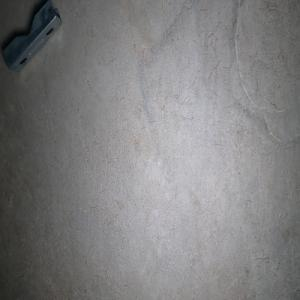ClampPart: (1, 0, 63, 73)
